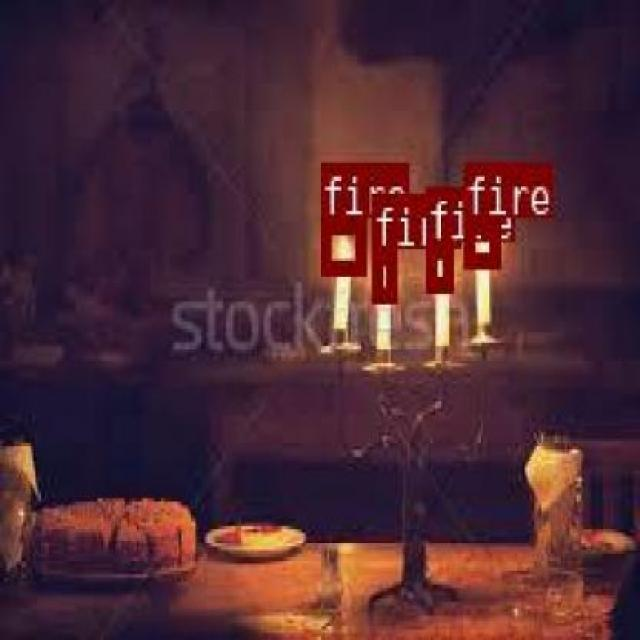fire: (318, 218, 364, 273), (463, 215, 497, 263), (424, 240, 450, 291), (372, 247, 394, 301)
